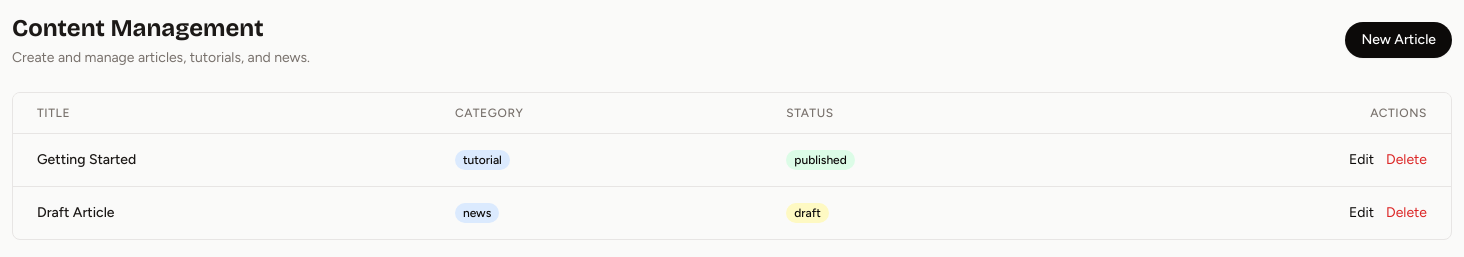
Test: CmsManager › deletes article
Expected: the text "Getting Started" is shown, [13,134,431,186]
Step 1. Click the button "Delete" in the row of "Getting Started" → coordinates (1407, 160), box [1386,150,1427,170]
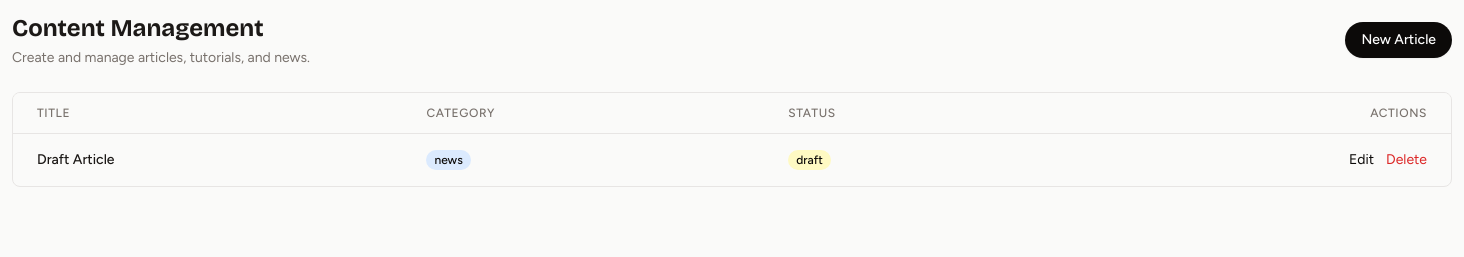
Expected: the text "Getting Started" is gone
